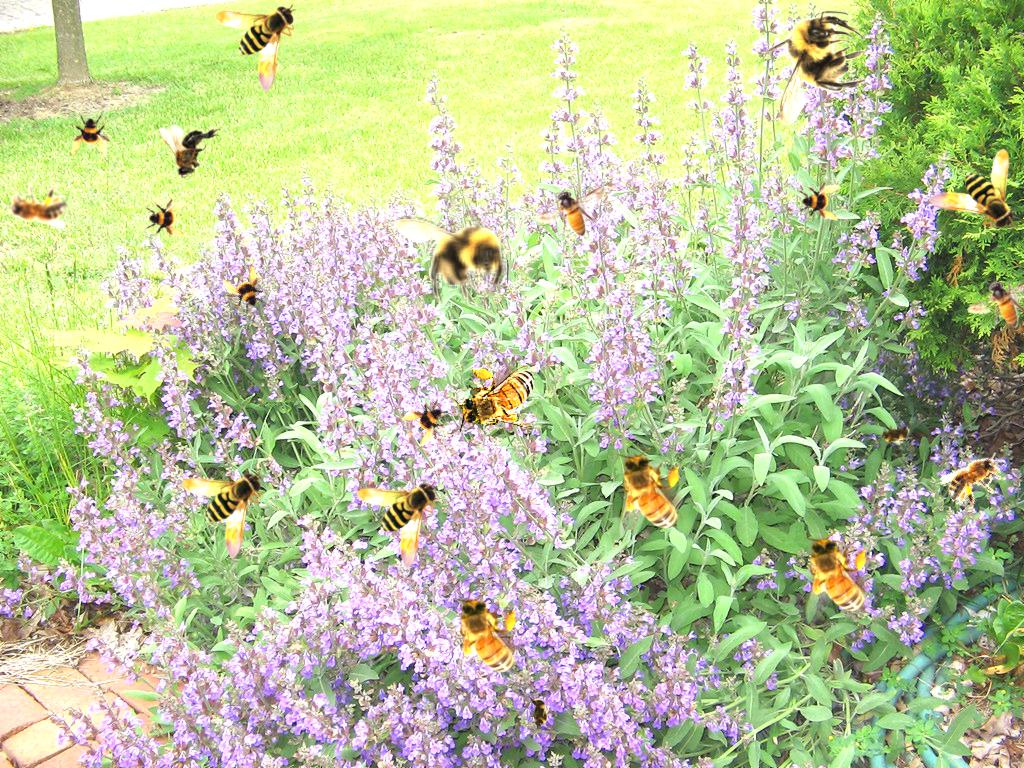Bee: (394, 199, 509, 306), (761, 11, 868, 126), (357, 481, 439, 569), (215, 4, 297, 92), (928, 149, 1016, 231), (182, 471, 264, 559), (452, 592, 520, 685), (454, 365, 547, 433), (802, 531, 870, 624), (615, 448, 683, 541), (937, 440, 1017, 517), (398, 391, 460, 453), (214, 261, 276, 323), (535, 187, 606, 237), (159, 125, 221, 178), (1, 183, 67, 228), (967, 278, 1024, 328), (144, 195, 188, 239), (70, 113, 114, 157), (797, 178, 841, 222), (873, 420, 917, 448), (528, 693, 550, 733)
